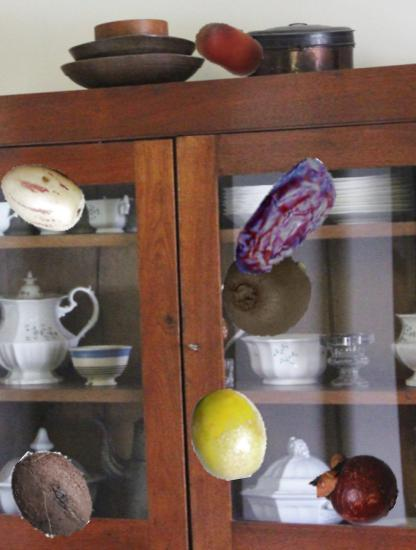Cocos: (5, 447, 99, 541)
Dates: (218, 152, 355, 289)
Kiwi: (219, 246, 311, 338)
Mangostan: (311, 442, 399, 530)
Maracuja: (183, 389, 275, 481)
Nectarine: (193, 13, 265, 85)
Pepino: (0, 152, 88, 240)
